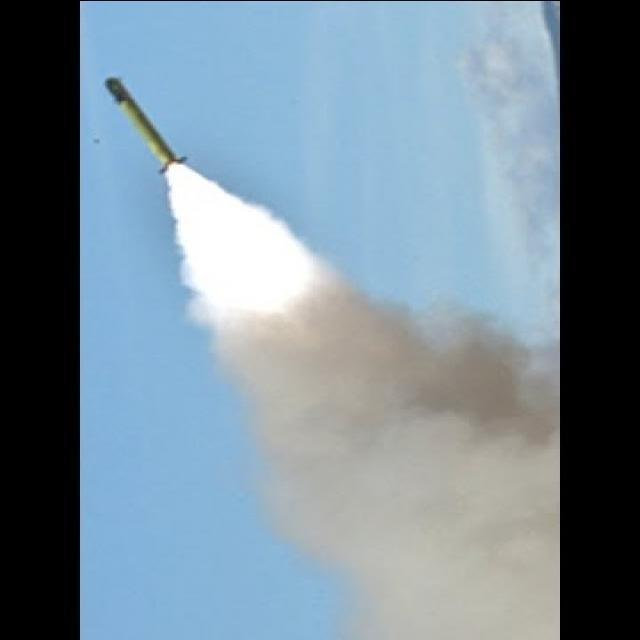missile: (103, 75, 187, 168)
